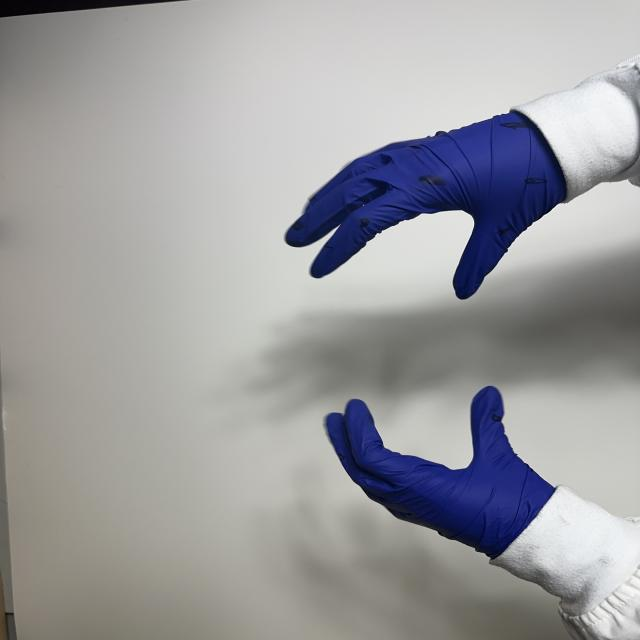gloves_contaminated: (285, 113, 566, 299), (328, 387, 554, 559)
